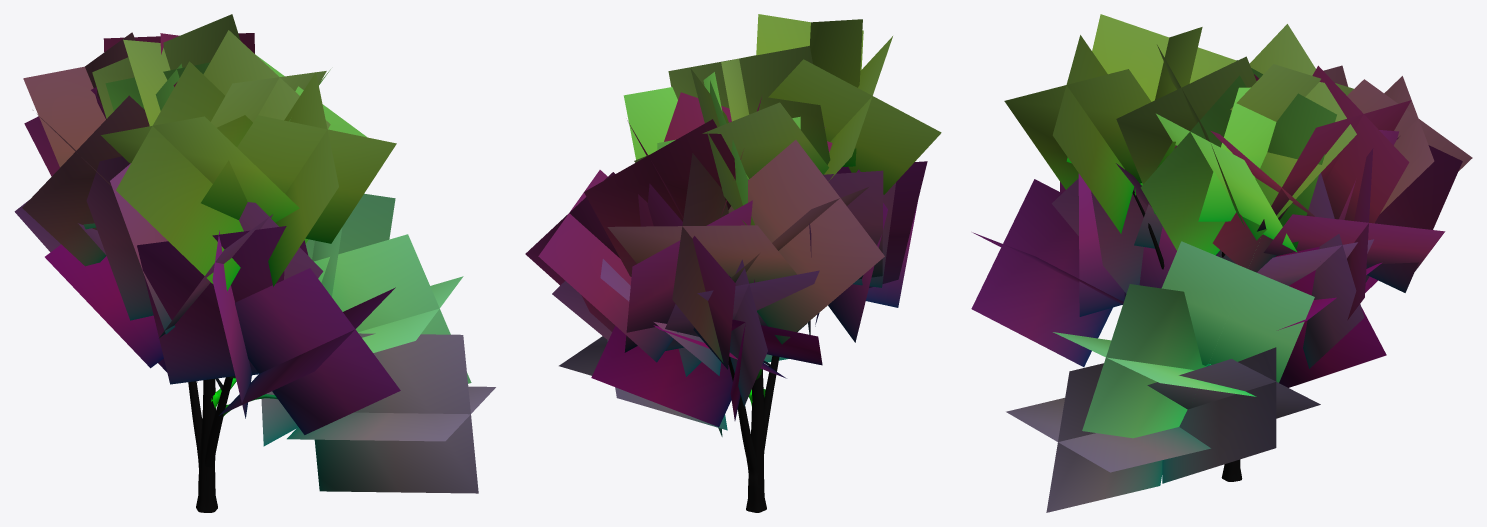
Rendered from URP_P12_Tree_17_LOD_0.fbx.
The picture shows the model from 3 angles, left to right: view 1: azimuth 30°, elevation 25°; view 2: azimuth 150°, elevation 25°; view 3: azimuth 270°, elevation 25°; orthographic projection. The views are drawn at different scales.
Visible parts, largest first — view 1: Tree_17_LOD_0; view 2: Tree_17_LOD_0; view 3: Tree_17_LOD_0.
Part boxes in pixels (left/top/right/bottom): Tree_17_LOD_0: left=14, top=14, right=495, bottom=512; Tree_17_LOD_0: left=525, top=14, right=941, bottom=512; Tree_17_LOD_0: left=971, top=14, right=1472, bottom=512.
Bounding box in the file's own units: 178 × 207 × 217.
